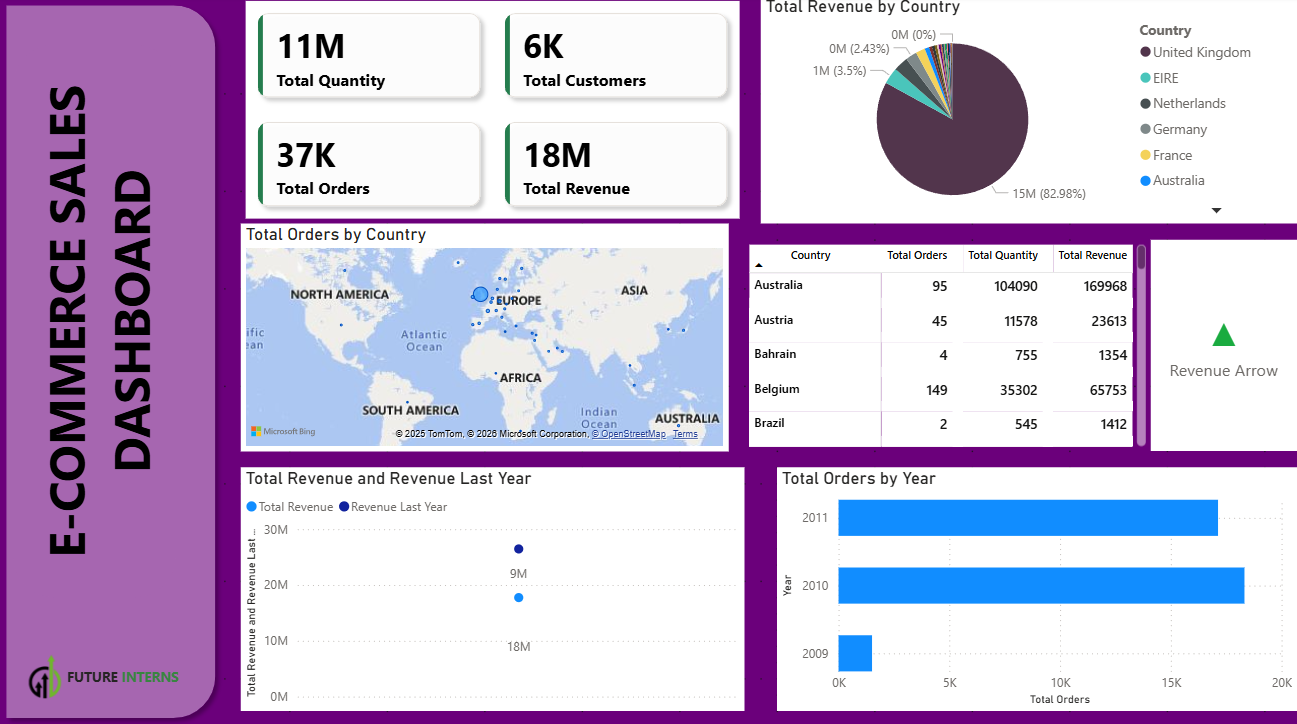

This screenshot's page, from the dashboard's own definition file:
{"tool":"powerbi","page":{"name":"Page 1","canvas":[1280,720],"ordinal":0},"visuals":[{"type":"cardVisual","fields":{"Data":["OnlineRetail.Total Quantity","OnlineRetail.Total Customers","OnlineRetail.Total Orders","OnlineRetail.Total Revenue"]},"box":[240,0,496,224],"z":0},{"type":"pieChart","fields":{"Category":["OnlineRetail.Country"],"Y":["OnlineRetail.Total Revenue"]},"box":[752,0,528,224],"z":1000},{"type":"barChart","fields":{"Category":["OnlineRetail.InvoiceDate.Variation.Date Hierarchy.Year","OnlineRetail.InvoiceDate.Variation.Date Hierarchy.Quarter","OnlineRetail.InvoiceDate.Variation.Date Hierarchy.Month","OnlineRetail.InvoiceDate.Variation.Date Hierarchy.Day"],"Y":["OnlineRetail.Total Orders"]},"box":[768,464,512,240],"z":2000},{"type":"card","fields":{"Values":["OnlineRetail.Revenue Arrow"]},"box":[1136,240,144,208],"z":3000},{"type":"map","fields":{"Category":["OnlineRetail.Country"],"Size":["OnlineRetail.Total Orders"]},"box":[240,224,480,224],"z":4000},{"type":"pivotTable","title":"OUTLET TYPE","fields":{"Rows":["OnlineRetail.Country"],"Values":["OnlineRetail.Total Orders","OnlineRetail.Total Quantity","OnlineRetail.Total Revenue"]},"box":[736,240,400,208],"z":5000},{"type":"shape","box":[0,0,224,720],"z":6000},{"type":"stackedAreaChart","fields":{"Y":["OnlineRetail.Total Revenue","OnlineRetail.Revenue Last Year"]},"box":[240,464,496,240],"z":7000},{"type":"actionButton","box":[16,640,240,64],"z":8000},{"type":"textbox","box":[64,656,128,32],"z":9000},{"type":"shape","box":[16,48,160,544],"z":10000}]}

Visuals, with their boxes in screenshot pixels (x1, y1, x2, y2), scaled from the page's 1280x720 canvas onto the 1297x724 screenshot:
cardVisual - OnlineRetail.Total Quantity x OnlineRetail.Total Customers: bbox=(243, 0, 746, 225)
pieChart - OnlineRetail.Country x OnlineRetail.Total Revenue: bbox=(762, 0, 1296, 225)
barChart - OnlineRetail.InvoiceDate.Variation.Date Hierarchy.Year x OnlineRetail.InvoiceDate.Variation.Date Hierarchy.Quarter: bbox=(778, 467, 1296, 708)
card - OnlineRetail.Revenue Arrow: bbox=(1151, 241, 1296, 450)
map - OnlineRetail.Country x OnlineRetail.Total Orders: bbox=(243, 225, 730, 450)
"OUTLET TYPE" pivotTable: bbox=(746, 241, 1151, 450)
shape: bbox=(0, 0, 227, 723)
stackedAreaChart - OnlineRetail.Total Revenue x OnlineRetail.Revenue Last Year: bbox=(243, 467, 746, 708)
actionButton: bbox=(16, 644, 259, 708)
textbox: bbox=(65, 660, 195, 692)
shape: bbox=(16, 48, 178, 595)
